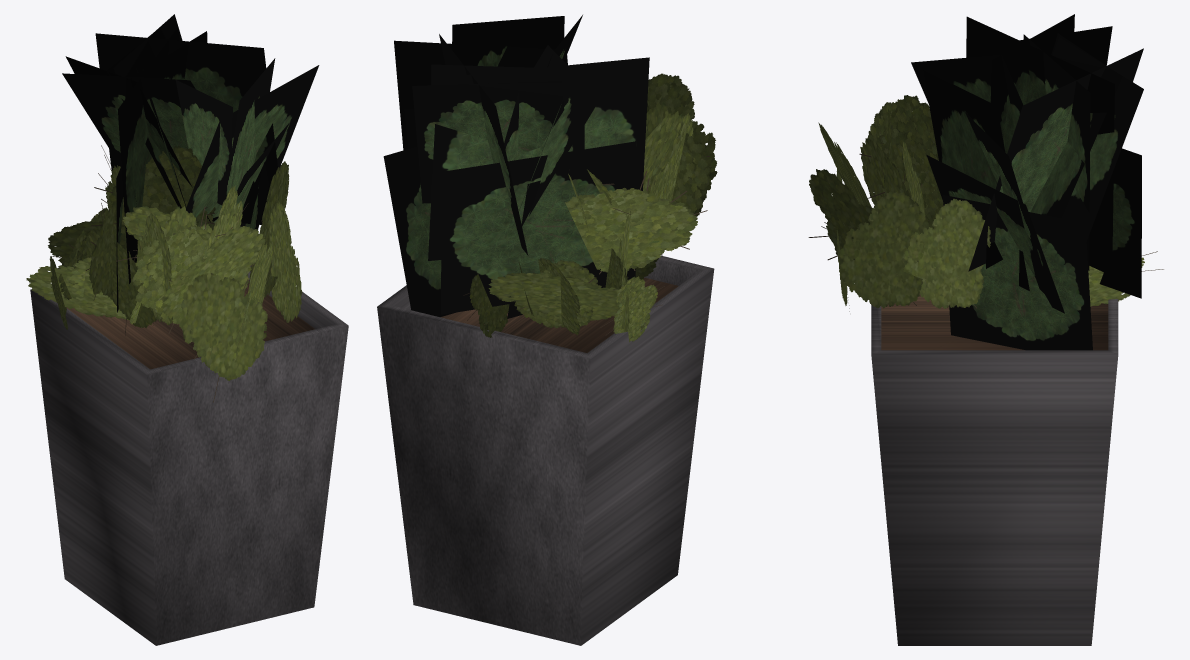
Rendered from SM_Morin_FiorieraC_LOD1.fbx.
The picture shows the model from 3 angles, left to right: view 1: azimuth 30°, elevation 25°; view 2: azimuth 150°, elevation 25°; view 3: azimuth 270°, elevation 25°; orthographic projection. The views are drawn at different scales.
Parts seen in each view (by area): view 1: SM_Morin_FiorieraC_LOD1; view 2: SM_Morin_FiorieraC_LOD1; view 3: SM_Morin_FiorieraC_LOD1.
Part boxes in pixels (box(x1,y1,x2,y2)): SM_Morin_FiorieraC_LOD1: box(26, 14, 348, 645); SM_Morin_FiorieraC_LOD1: box(377, 15, 717, 645); SM_Morin_FiorieraC_LOD1: box(808, 14, 1163, 645).
Size of the model in its own units: 104 by 117 by 180.
3 materials, 3 textured.
